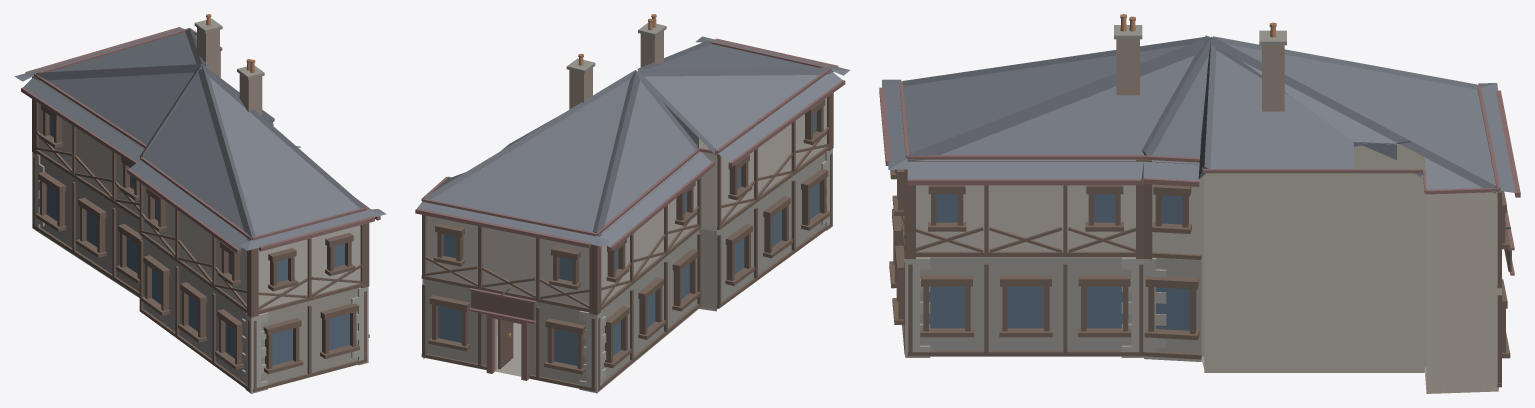
File: b007_closed.glb
3 views of the same model, side by side, from view 1: azimuth 30°, elevation 25°; view 2: azimuth 150°, elevation 25°; view 3: azimuth 270°, elevation 25° (orthographic). The views are drawn at different scales.
Visible parts, largest first — view 1: B007_visible; view 2: B007_visible; view 3: B007_visible.
Part boxes in pixels (bbox=[...]): B007_visible: bbox=[14, 14, 386, 393]; B007_visible: bbox=[415, 14, 850, 393]; B007_visible: bbox=[879, 14, 1520, 393].
Bounding box in the file's own units: 8.2 × 10.47 × 18.75.
